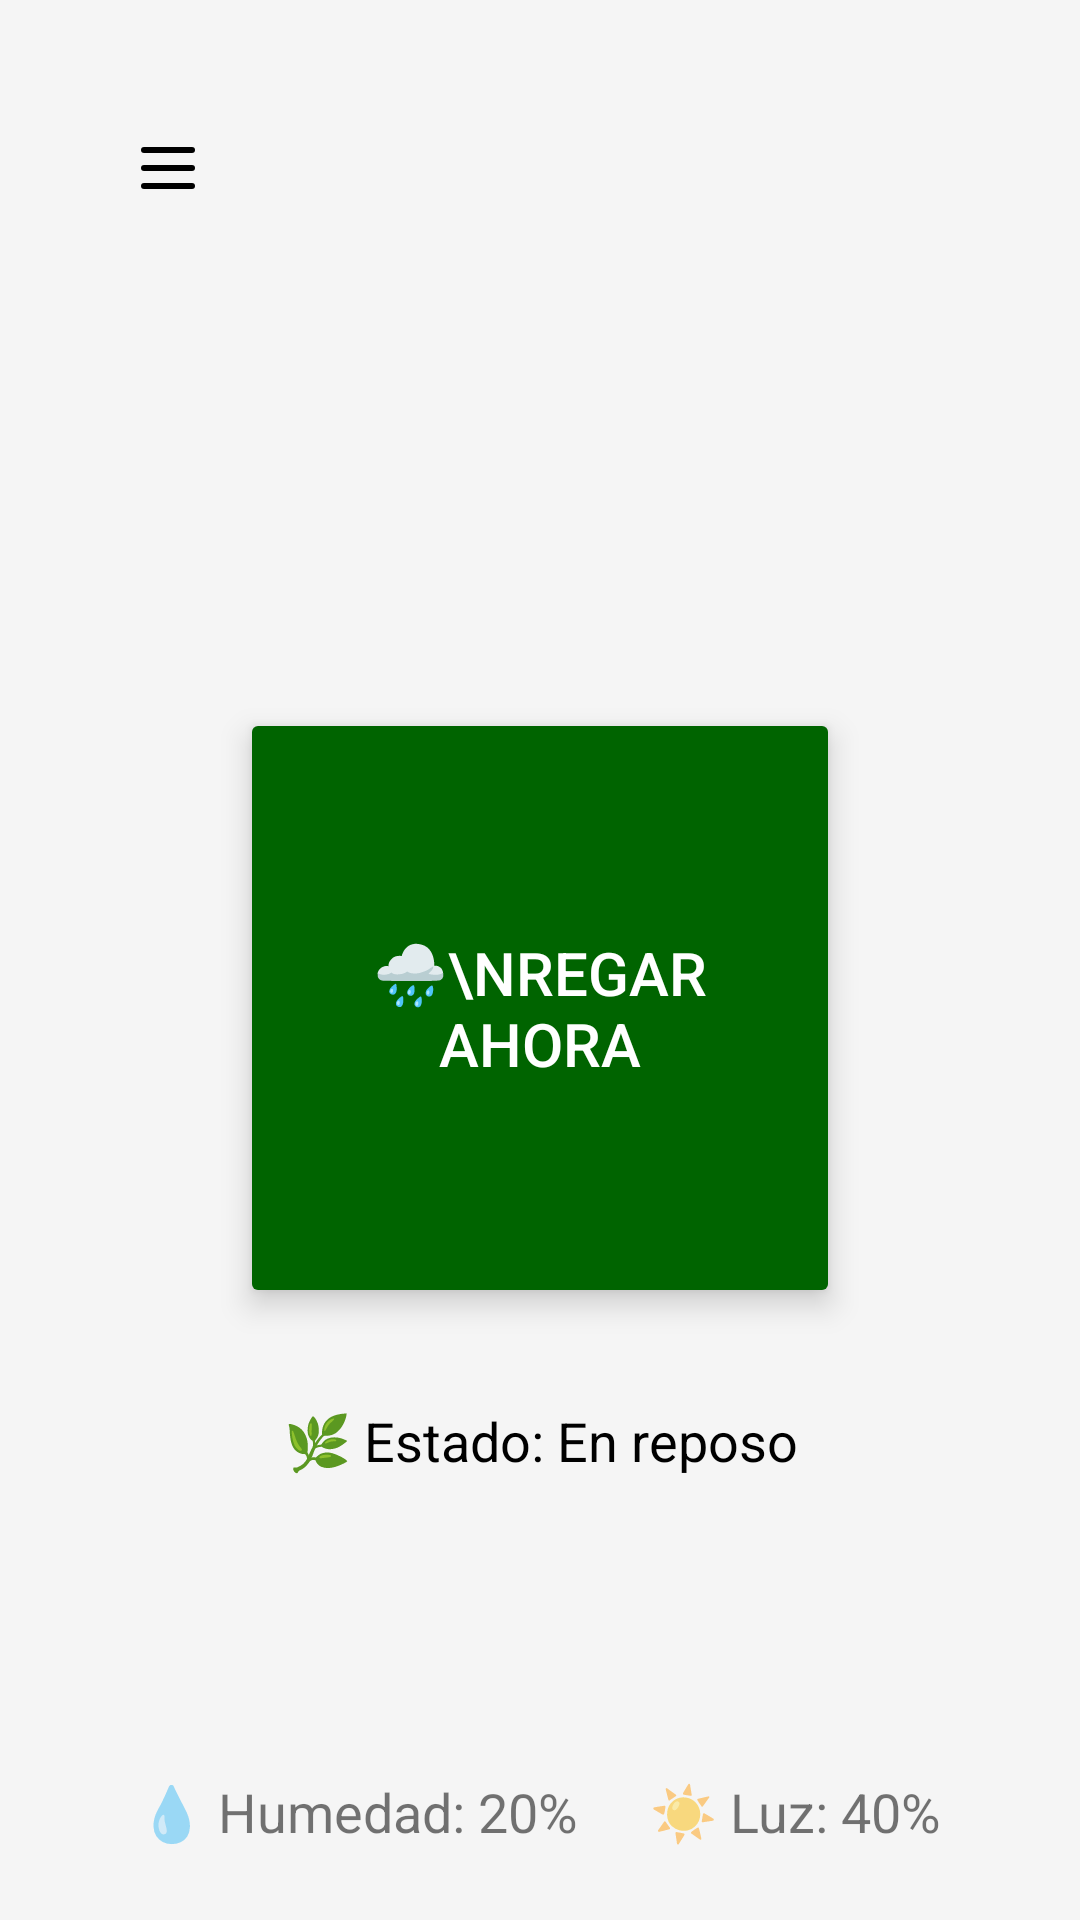

Point at icon controls on the screen. Image size 1080px x 1920px, points as [x,y].
Abrir menu: [168,168]
